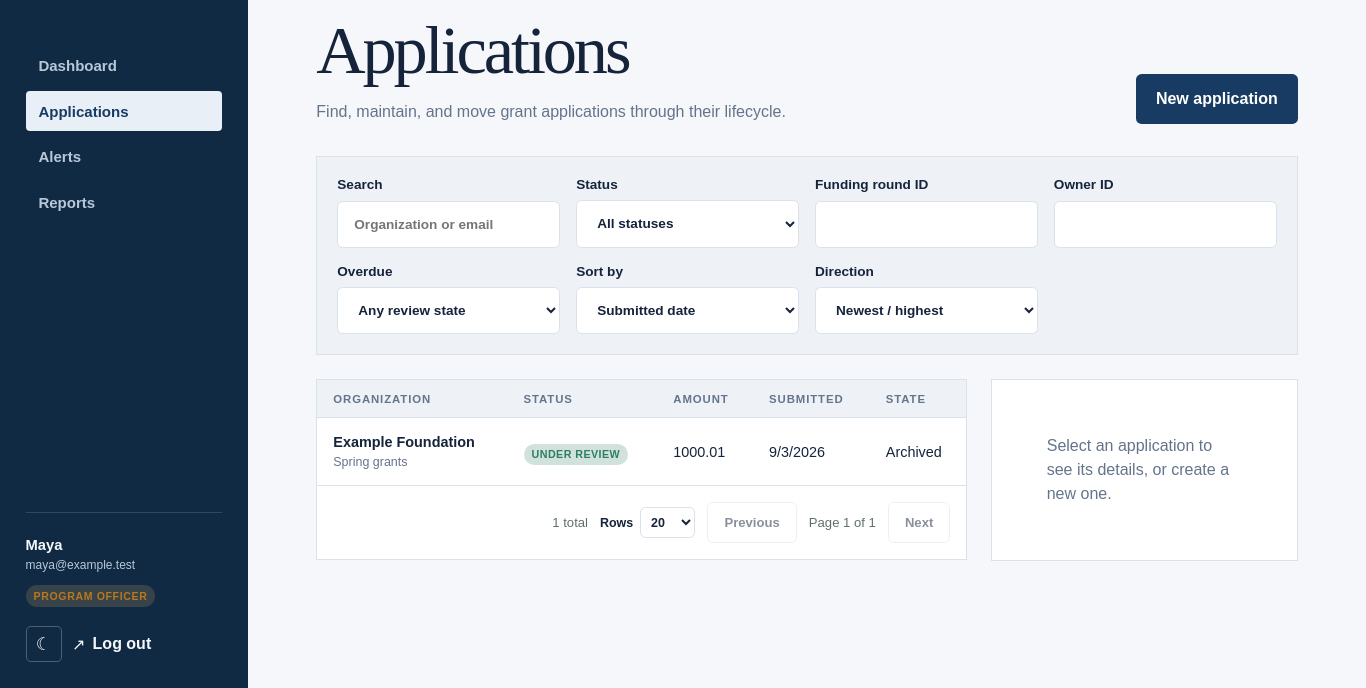
Scenario: Program Officer application management › does not offer a decision for an archived under-review application with completed reviews
Click the button "Example Foundation".
click(404, 442)  # box [333, 434, 475, 450]
(page scrolled)
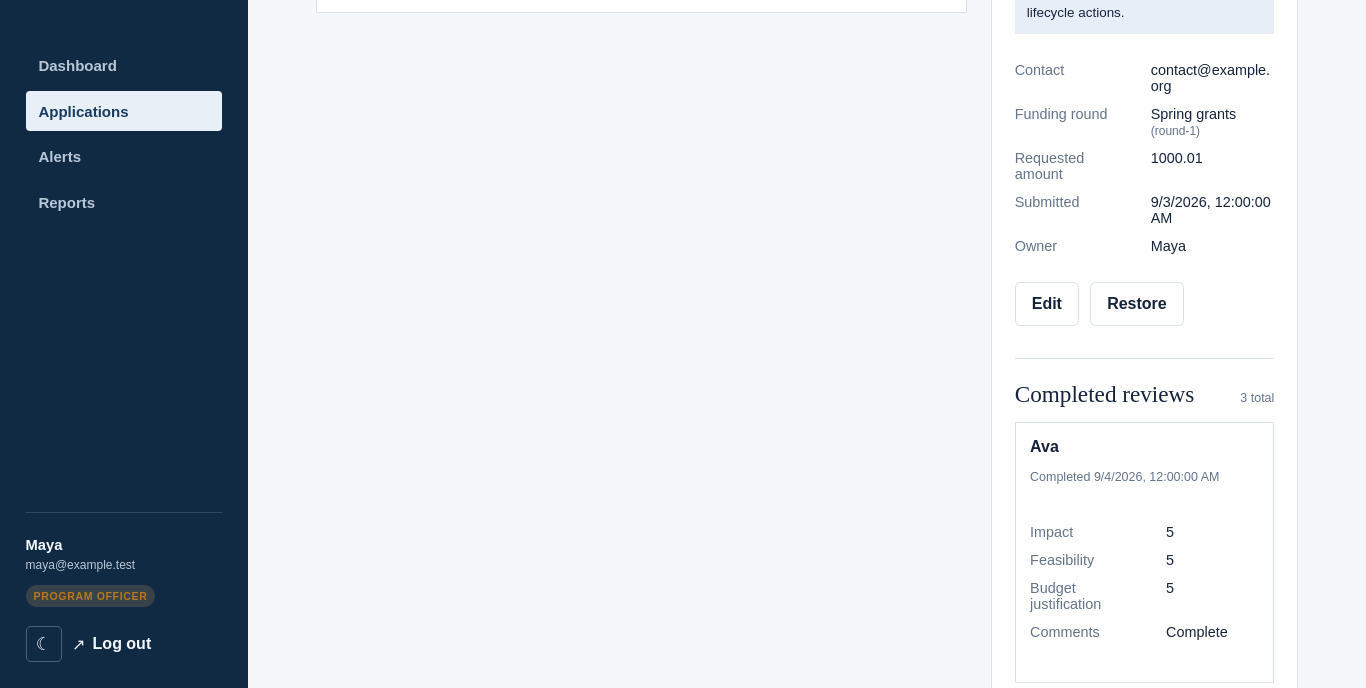
Now the button "Restore" is shown, box [1090, 282, 1184, 326]
